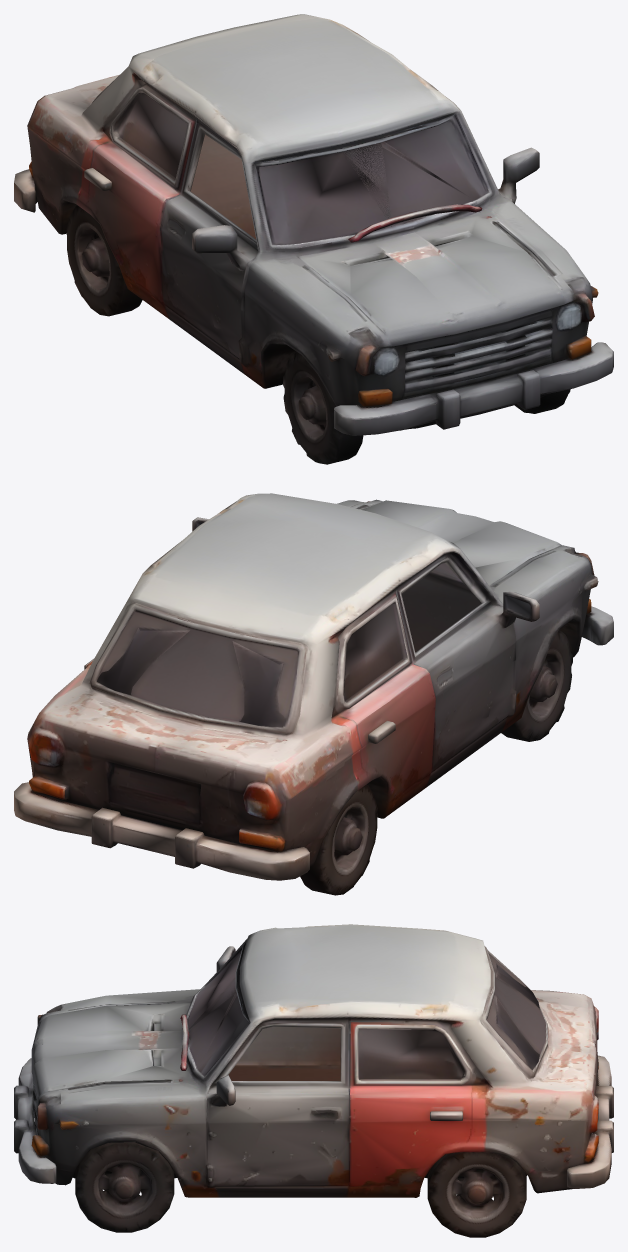
File: old_car.glb
3 renders of one model, top to bottom at view 1: azimuth 30°, elevation 25°; view 2: azimuth 150°, elevation 25°; view 3: azimuth 270°, elevation 25°, orthographic. The views are drawn at different scales.
Visible parts, largest first — view 1: tripo_node_1aefc492-9cbf-40b0-b972-16642fbfaa20; view 2: tripo_node_1aefc492-9cbf-40b0-b972-16642fbfaa20; view 3: tripo_node_1aefc492-9cbf-40b0-b972-16642fbfaa20.
Part boxes in pixels (x1,y1,x2,y2): tripo_node_1aefc492-9cbf-40b0-b972-16642fbfaa20: (14,14,613,464); tripo_node_1aefc492-9cbf-40b0-b972-16642fbfaa20: (14,493,613,895); tripo_node_1aefc492-9cbf-40b0-b972-16642fbfaa20: (14,924,613,1237).
Size of the model in its own units: 1.92 by 1.4 by 3.36.
Materials: 1 (1 with a texture image).
